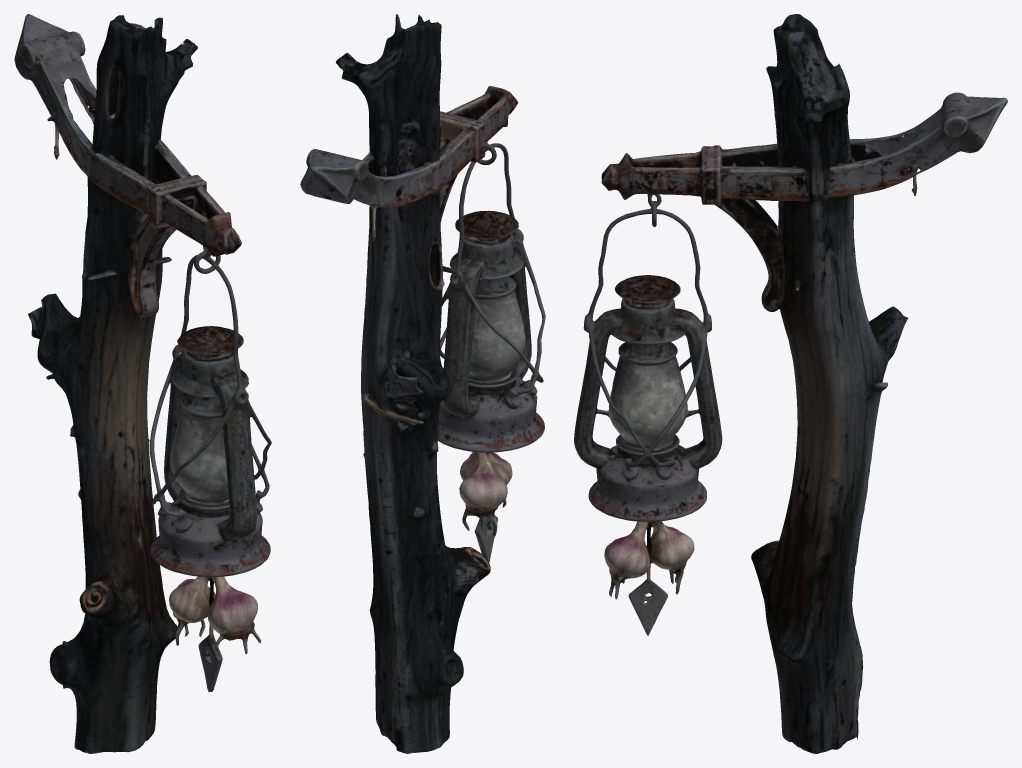
File: prop_lanternpost.glb
The picture shows the model from 3 angles, left to right: view 1: azimuth 30°, elevation 25°; view 2: azimuth 150°, elevation 25°; view 3: azimuth 270°, elevation 25°; orthographic projection. The views are drawn at different scales.
Bounding box in the file's own units: 0.1903 × 0.998 × 0.5425.
Materials: 1 (1 with a texture image).
